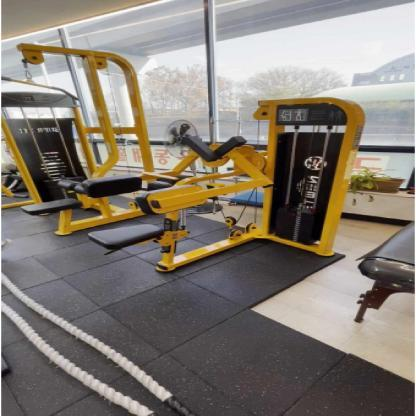lateral raises machine: (82, 135, 362, 274)
